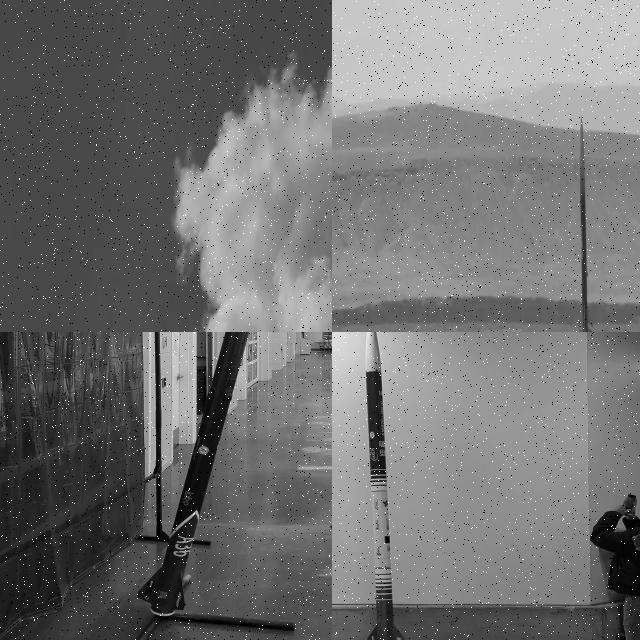Rocket: (137, 332, 249, 616), (365, 332, 405, 640), (577, 114, 594, 332)
